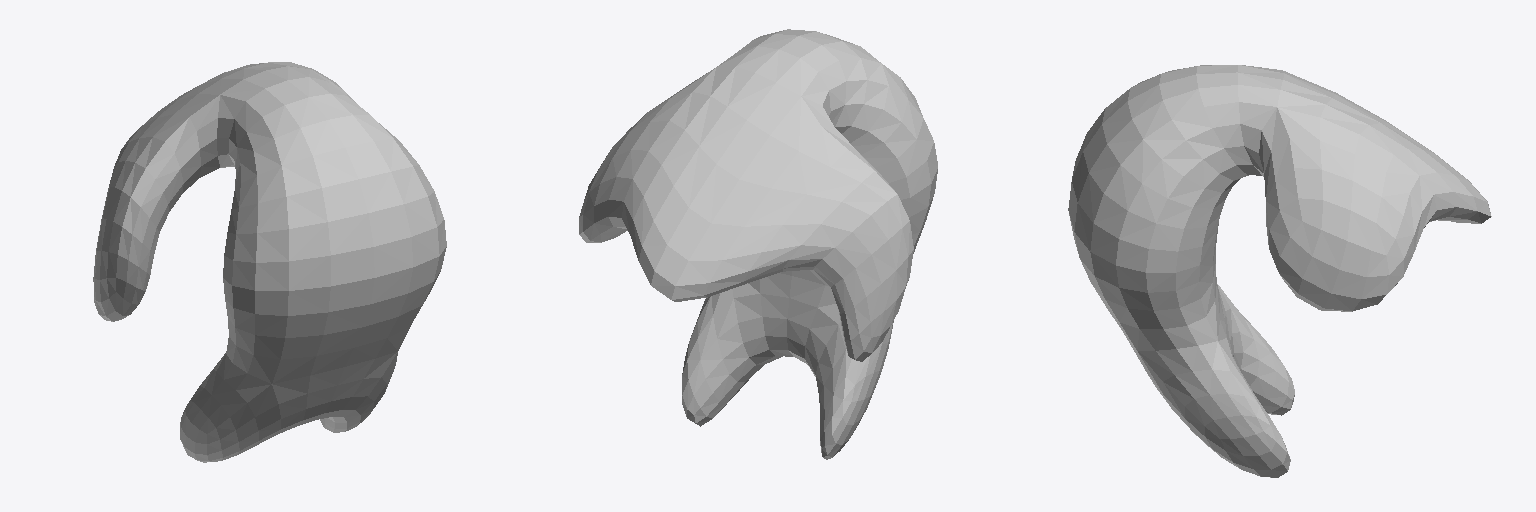
The model's file is Mane.obj.
The picture shows the model from 3 angles: view 1: azimuth 30°, elevation 25°; view 2: azimuth 150°, elevation 25°; view 3: azimuth 270°, elevation 25°; orthographic projection.
Parts seen in each view (by area): view 1: Cube_Cube.001; view 2: Cube_Cube.001; view 3: Cube_Cube.001.
Part boxes in pixels (left/top/right/bottom): Cube_Cube.001: left=93, top=62, right=446, bottom=462; Cube_Cube.001: left=579, top=29, right=937, bottom=459; Cube_Cube.001: left=1068, top=65, right=1491, bottom=477.
Size of the model in its own units: 1.48 by 1.85 by 1.88.